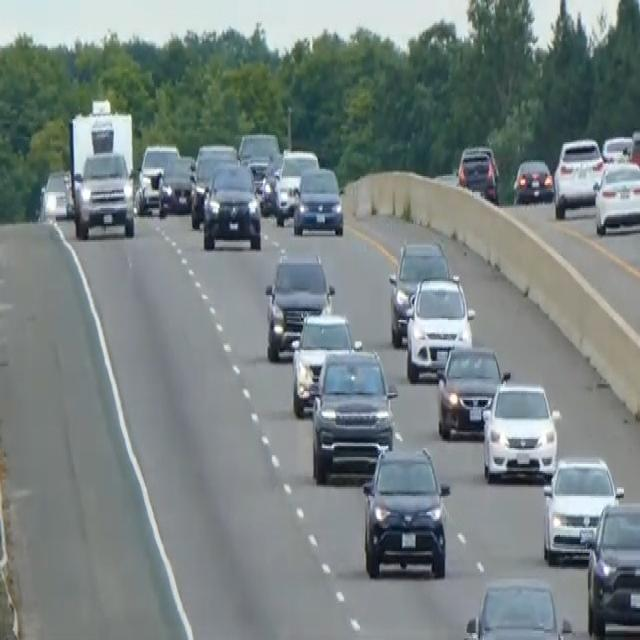car: (310, 342, 397, 484), (541, 454, 623, 564), (481, 377, 560, 482), (263, 247, 334, 359), (404, 272, 475, 382), (585, 498, 639, 638), (436, 340, 509, 439), (290, 309, 357, 416), (463, 576, 573, 638), (388, 238, 450, 345), (201, 160, 261, 251), (552, 135, 604, 219), (189, 142, 238, 228), (292, 164, 344, 236), (594, 154, 639, 234), (273, 147, 319, 225), (135, 140, 179, 213), (457, 142, 499, 203), (157, 153, 195, 215), (237, 130, 279, 183), (512, 154, 553, 204), (38, 167, 72, 222), (258, 153, 283, 215), (601, 133, 633, 162), (629, 126, 639, 171)
jeep: (359, 441, 452, 581)
truck: (66, 96, 136, 240)
